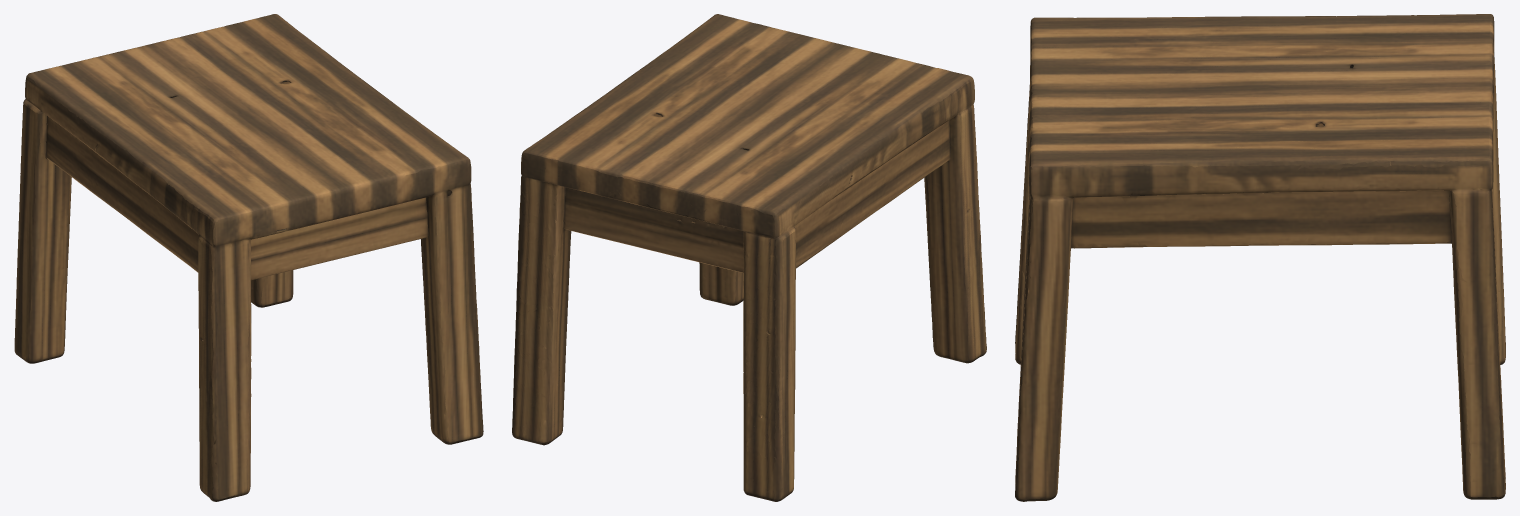
File: item_9623f01e.glb
3 views of the same model, side by side, from view 1: azimuth 30°, elevation 25°; view 2: azimuth 150°, elevation 25°; view 3: azimuth 270°, elevation 25° (orthographic). The views are drawn at different scales.
Parts seen in each view (by area): view 1: world; view 2: world; view 3: world.
Part boxes in pixels (bbox=[...]): world: bbox=[14, 14, 483, 501]; world: bbox=[512, 14, 986, 501]; world: bbox=[1015, 14, 1505, 501].
Size of the model in its own units: 1.2 by 1.2 by 1.57.
1 material, 1 textured.
